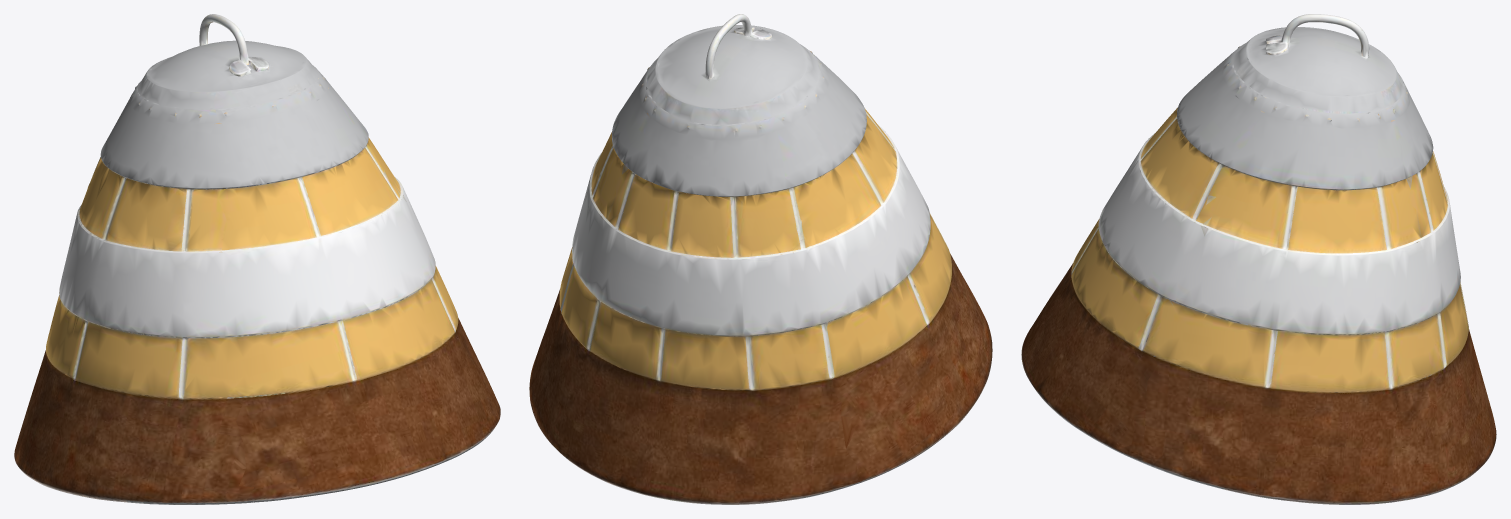
The picture shows the model from 3 angles, left to right: view 1: azimuth 30°, elevation 25°; view 2: azimuth 150°, elevation 25°; view 3: azimuth 270°, elevation 25°; orthographic projection. The views are drawn at different scales.
Visible parts, largest first — view 1: mesh; view 2: mesh; view 3: mesh.
Part boxes in pixels (left/top/right/bottom): mesh: left=14, top=14, right=500, bottom=504; mesh: left=529, top=14, right=992, bottom=504; mesh: left=1021, top=14, right=1496, bottom=504.
Bounding box in the file's own units: 0.2998 × 0.2945 × 0.3.
Materials: 1 (1 with a texture image).
